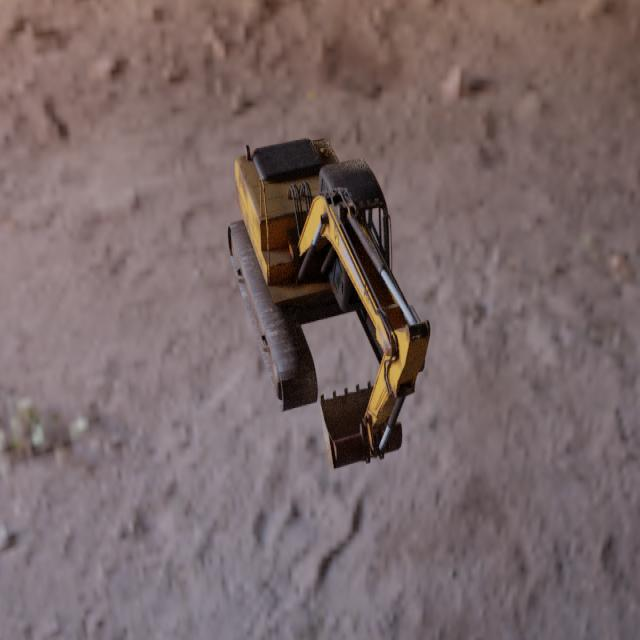excavator: (226, 138, 431, 470)
